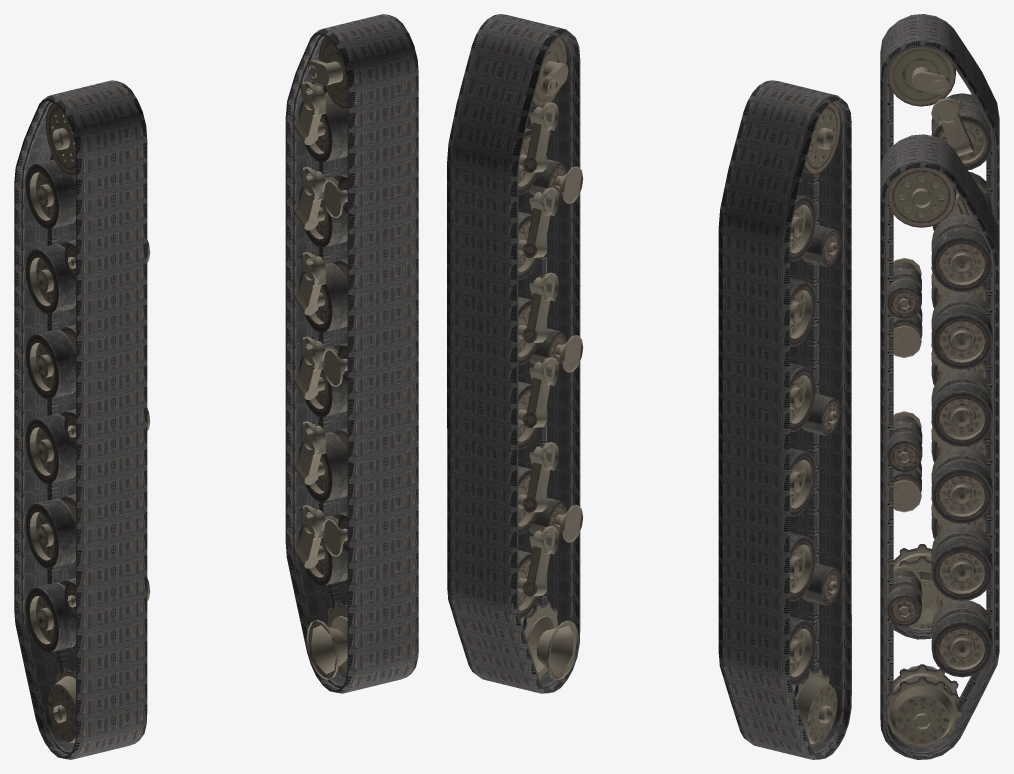
The model's file is Chassis.glb.
3 renders of one model, left to right at view 1: azimuth 30°, elevation 25°; view 2: azimuth 150°, elevation 25°; view 3: azimuth 270°, elevation 25°, orthographic. The views are drawn at different scales.
Visible parts, largest first — view 1: set_1_group_0, set_0_group_0, set_3_group_0, set_2_group_0; view 2: set_1_group_0, set_0_group_0, set_3_group_0, set_2_group_0; view 3: set_3_group_0, set_0_group_0, set_2_group_0, set_1_group_0.
Part boxes in pixels (x1,y1,x2,y2): set_1_group_0: (14,80,147,759); set_0_group_0: (285,14,418,693); set_3_group_0: (294,37,347,679); set_2_group_0: (25,103,150,744); set_1_group_0: (718,80,851,759); set_0_group_0: (447,14,580,693); set_3_group_0: (518,37,583,680); set_2_group_0: (790,102,840,745); set_3_group_0: (887,167,992,747); set_0_group_0: (880,134,999,759); set_2_group_0: (887,47,992,630); set_1_group_0: (880,14,999,639).
Size of the model in its own units: 3.22 by 5.93 by 1.07.
Materials: 4 (4 with a texture image).
